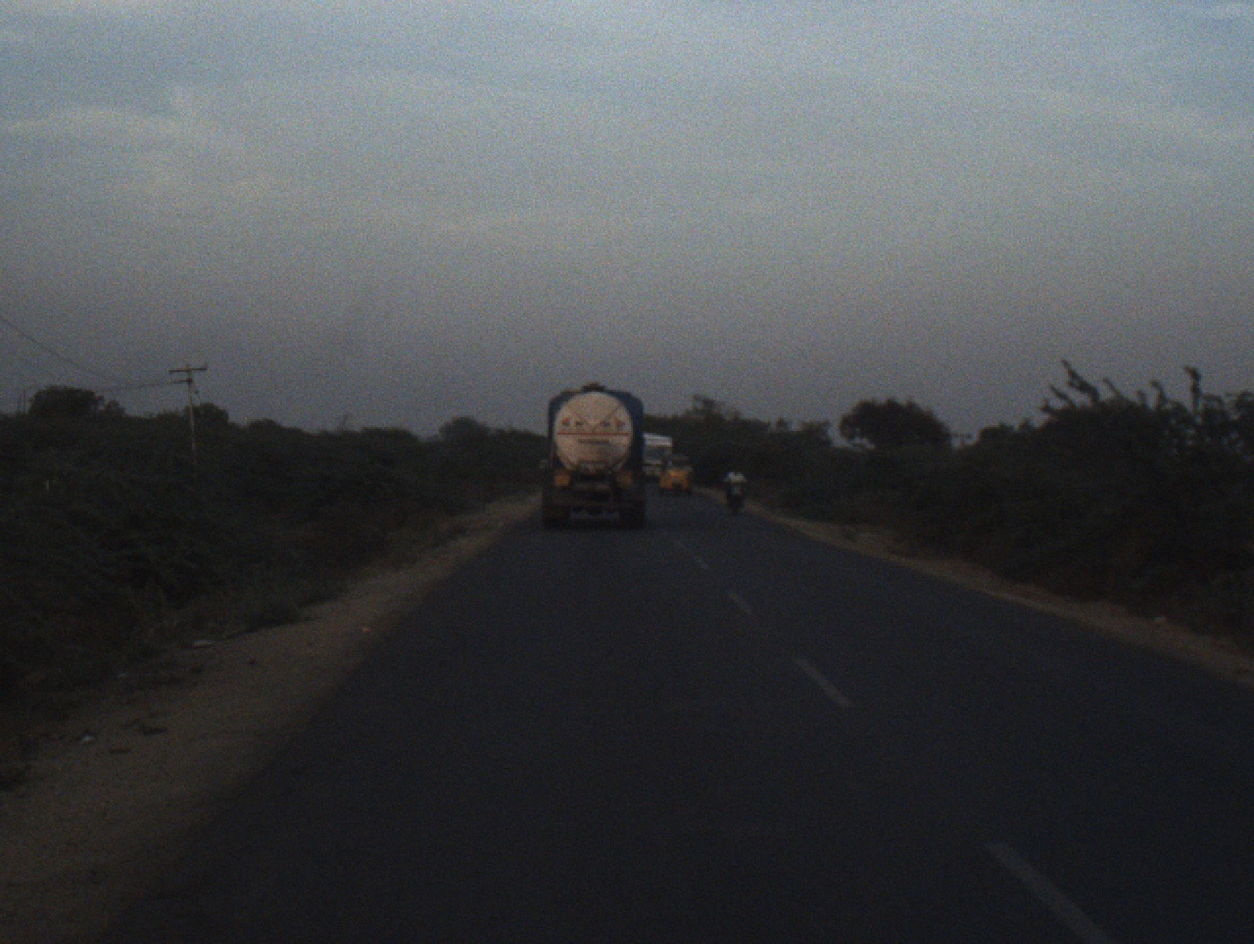autorickshaw: (654, 452, 699, 498)
bus: (642, 431, 674, 477)
motorcycle: (723, 474, 748, 515)
rider: (726, 470, 743, 502)
truck: (528, 381, 652, 535)
